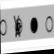correct: (28, 14, 39, 39)
not correct: (12, 12, 23, 40)
